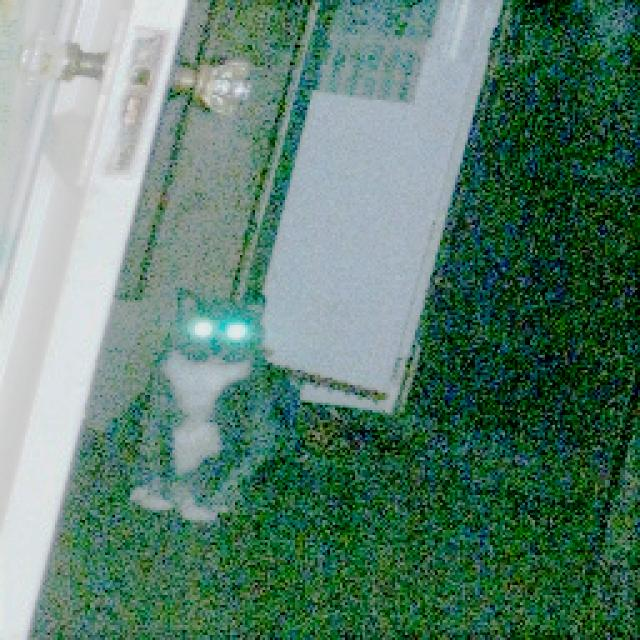cat: (120, 261, 314, 567)
